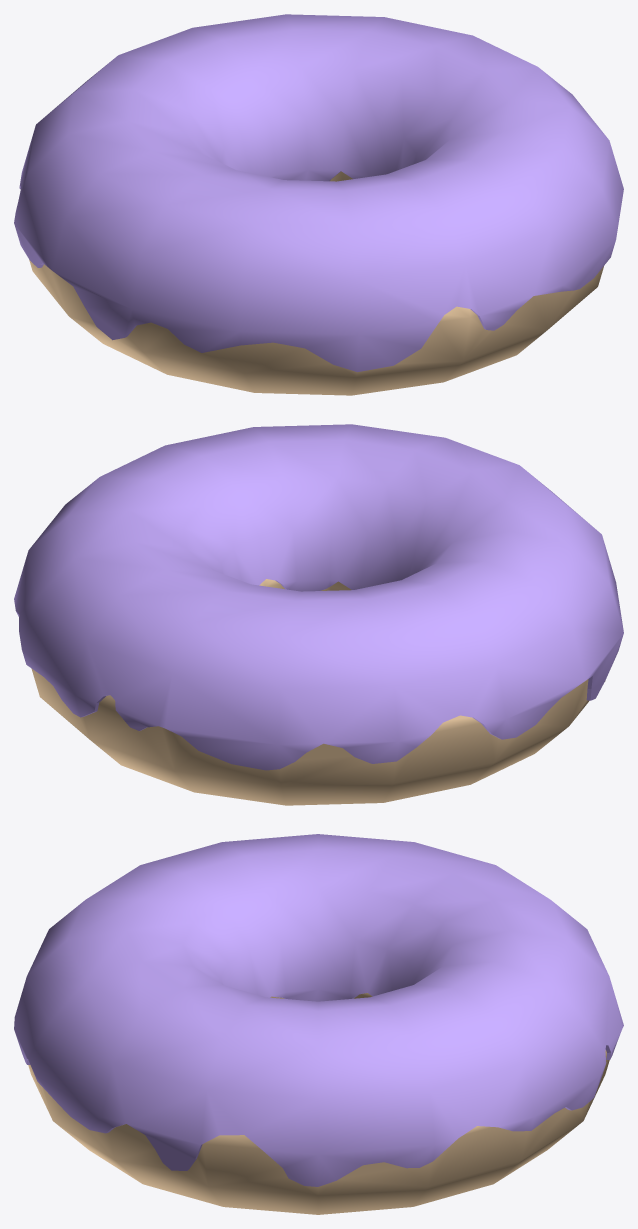
File: donut.glb
3 renders of one model, top to bottom at view 1: azimuth 30°, elevation 25°; view 2: azimuth 150°, elevation 25°; view 3: azimuth 270°, elevation 25°, orthographic.
Parts seen in each view (by area): view 1: Glaze, Donut; view 2: Glaze, Donut; view 3: Glaze, Donut.
Part boxes in pixels (box(x1,y1,x2,y2)): Glaze: box(14, 14, 623, 372); Donut: box(29, 171, 603, 395); Glaze: box(14, 424, 623, 770); Donut: box(31, 579, 605, 805); Glaze: box(14, 834, 623, 1186); Donut: box(28, 993, 609, 1214).
Bounding box in the file's own units: 3.14 × 1.09 × 3.14.
Materials: 2 (2 with a texture image).
